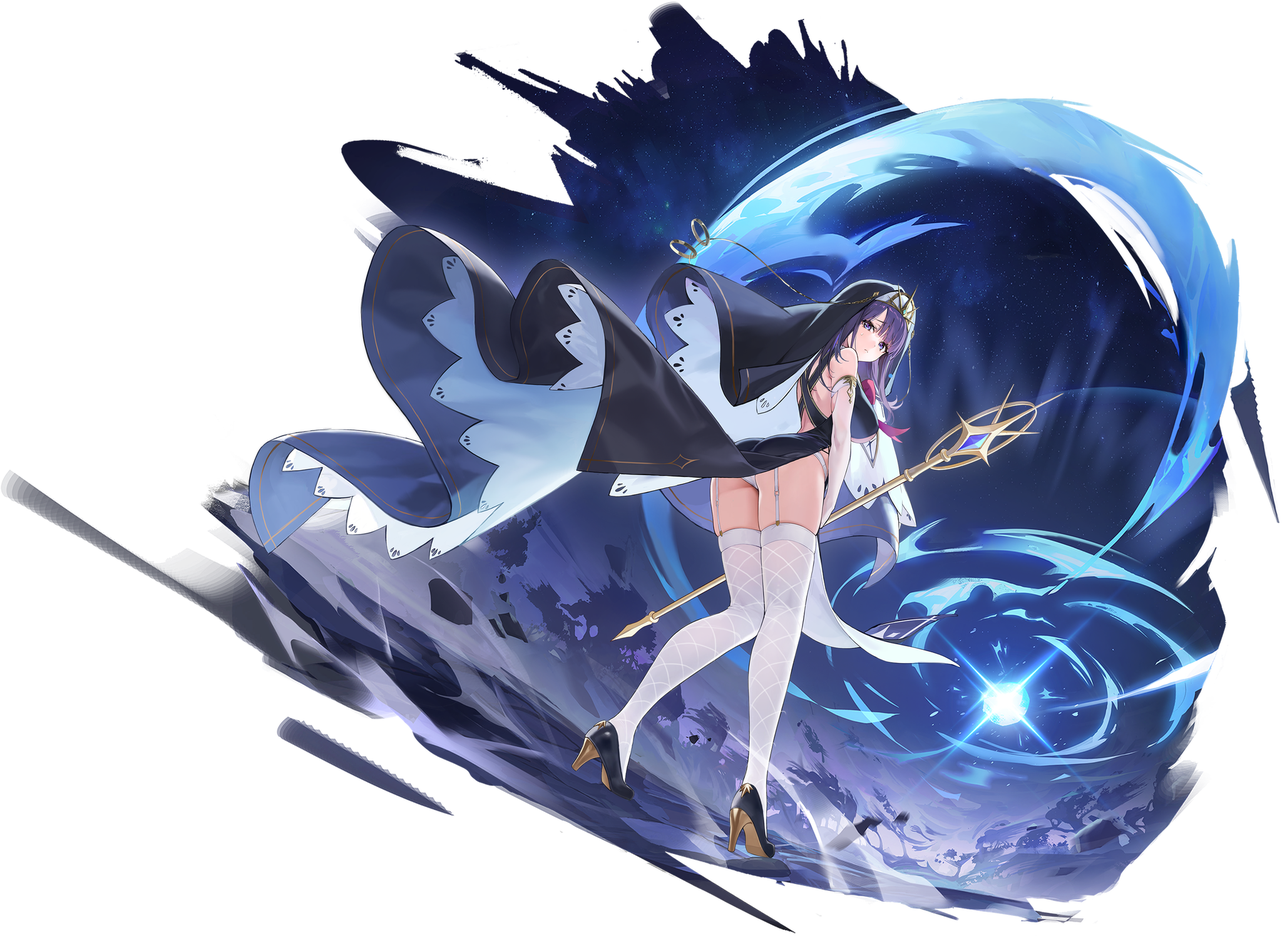person: (515, 201, 1064, 908)
